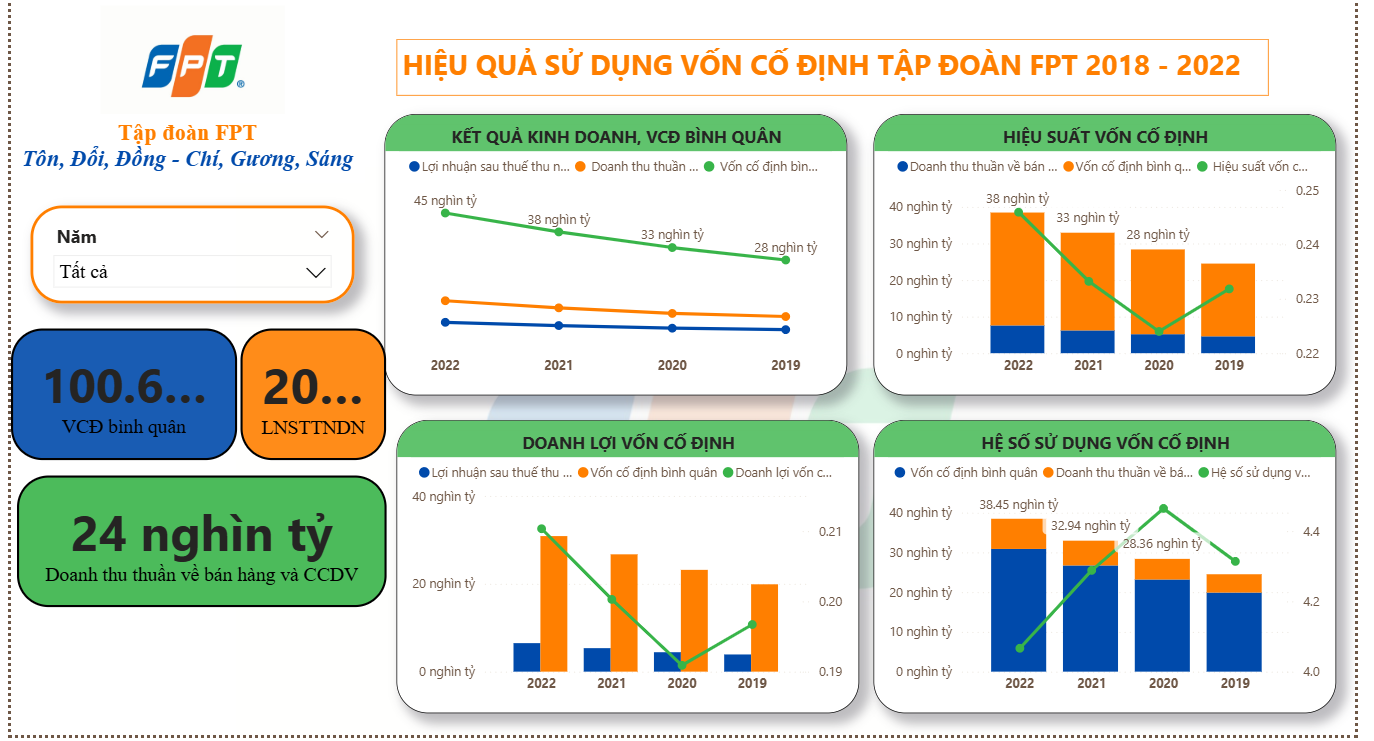

This screenshot's page, from the dashboard's own definition file:
{"tool":"powerbi","page":{"name":" HQSDVCD","canvas":[1280,700],"ordinal":2},"visuals":[{"type":"textbox","box":[367.8,37.3,830.5,54.2],"z":0},{"type":"lineClusteredColumnComboChart","title":"DOANH LỢI VỐN CỐ ĐỊNH","fields":{"Category":["HQSDVCD.Năm"],"Y":["Sum(HQSDVCD.Lợi nhuận sau thuế thu nhập doanh nghiệp)","Sum(HQSDVCD.Vốn cố định bình quân)"],"Y2":["Sum(HQSDVCD.Doanh lợi vốn cố định (dVc))"]},"box":[367.8,400,440.7,279.7],"z":1000},{"type":"image","box":[46.7,0,251.7,126.7],"z":2000},{"type":"textbox","box":[0,108.3,336.7,65],"z":3000},{"type":"lineStackedColumnComboChart","title":"HIỆU SUẤT VỐN CỐ ĐỊNH","fields":{"Category":["HQSDVCD.Năm"],"Y":["Sum(HQSDVCD.Doanh thu thuần về bán hàng và cung cấp dịch vụ)","Sum(HQSDVCD.Vốn cố định bình quân)"],"Y2":["Sum(HQSDVCD.Hiệu suất vốn cố định (HV))"]},"box":[822,108.5,440.7,267.8],"z":4000},{"type":"stackedAreaChart","title":"KẾT QUẢ KINH DOANH, VCĐ BÌNH QUÂN","fields":{"Category":["HQSDVCD.Năm"],"Y":["Sum(HQSDVCD.Lợi nhuận sau thuế thu nhập doanh nghiệp)","Sum(HQSDVCD.Doanh thu thuần về bán hàng và cung cấp dịch vụ)","Sum(HQSDVCD.Vốn cố định bình quân)"]},"box":[355.9,108.5,440.7,267.8],"z":5000},{"type":"lineStackedColumnComboChart","title":"HỆ SỐ SỬ DỤNG VỐN CỐ ĐỊNH","fields":{"Y":["Sum(HQSDVCD.Vốn cố định bình quân)","Sum(HQSDVCD.Doanh thu thuần về bán hàng và cung cấp dịch vụ)"],"Category":["HQSDVCD.Năm"],"Y2":["Sum(HQSDVCD.Hệ số sử dụng vốn cố định (Hsv))"]},"box":[822,400,440.7,279.7],"z":6000},{"type":"card","fields":{"Values":["Sum(HQSDVCD.Vốn cố định bình quân)"]},"box":[0,313.3,215,125],"z":7000},{"type":"slicer","fields":{"Values":["HQSDVCD.Năm"]},"box":[18.3,195,308.3,93.3],"z":8000},{"type":"card","fields":{"Values":["Sum(HQSDVCD.Lợi nhuận sau thuế thu nhập doanh nghiệp)"]},"box":[218.3,313.3,138.3,125],"z":9000},{"type":"card","fields":{"Values":["Sum(HQSDVCD.Doanh thu thuần về bán hàng và cung cấp dịch vụ)"]},"box":[5,453.3,351.7,125],"z":10000}]}

Visuals, with their boxes in screenshot pixels (x1, y1, x2, y2), scaled from the page's 1280x700 canvas onto the 1374x741 screenshot:
textbox: (left=395, top=39, right=1286, bottom=97)
"DOANH LỢI VỐN CỐ ĐỊNH" lineClusteredColumnComboChart: (left=395, top=423, right=868, bottom=720)
image: (left=50, top=0, right=320, bottom=134)
textbox: (left=0, top=115, right=361, bottom=183)
"HIỆU SUẤT VỐN CỐ ĐỊNH" lineStackedColumnComboChart: (left=882, top=115, right=1355, bottom=398)
"KẾT QUẢ KINH DOANH, VCĐ BÌNH QUÂN" stackedAreaChart: (left=382, top=115, right=855, bottom=398)
"HỆ SỐ SỬ DỤNG VỐN CỐ ĐỊNH" lineStackedColumnComboChart: (left=882, top=423, right=1355, bottom=720)
card - Sum(HQSDVCD.Vốn cố định bình quân): (left=0, top=332, right=231, bottom=464)
slicer - HQSDVCD.Năm: (left=20, top=206, right=351, bottom=305)
card - Sum(HQSDVCD.Lợi nhuận sau thuế thu nhập doanh nghiệp): (left=234, top=332, right=383, bottom=464)
card - Sum(HQSDVCD.Doanh thu thuần về bán hàng và cung cấp dịch vụ): (left=5, top=480, right=383, bottom=612)
